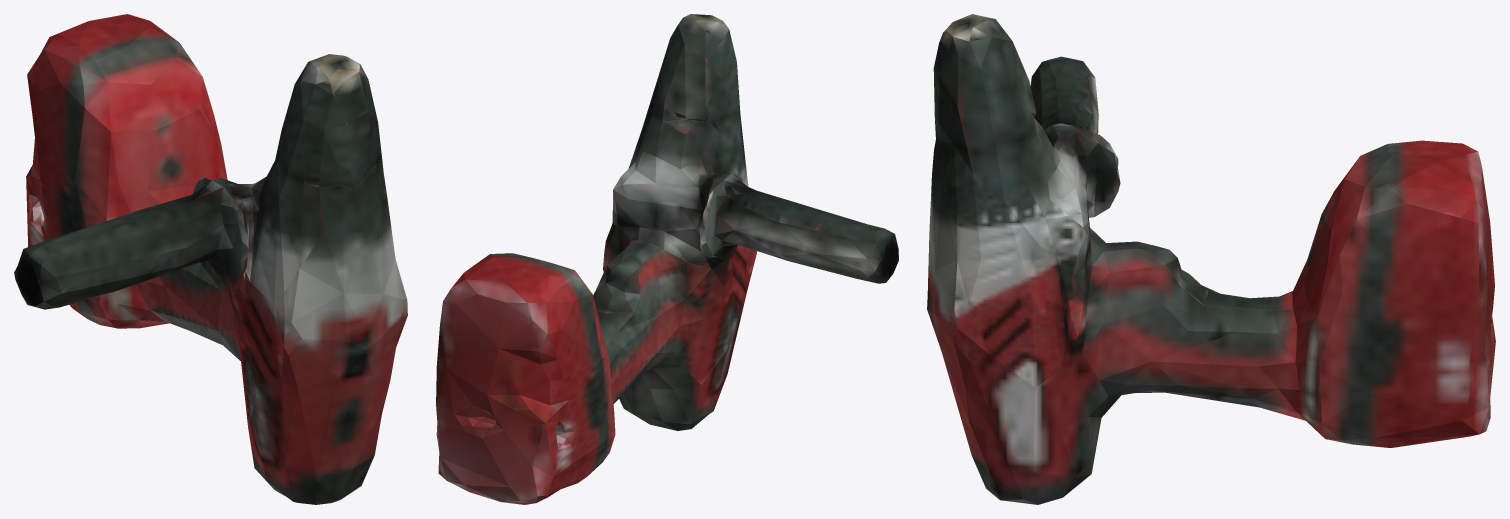
The model's file is cordless_drill.dae.
The picture shows the model from 3 angles, left to right: view 1: azimuth 30°, elevation 25°; view 2: azimuth 150°, elevation 25°; view 3: azimuth 270°, elevation 25°; orthographic projection. The views are drawn at different scales.
Parts seen in each view (by area): view 1: node; view 2: node; view 3: node.
Boxes of the visible parts, left/top/right/bottom form: node: left=14, top=14, right=407, bottom=504; node: left=436, top=14, right=898, bottom=504; node: left=927, top=14, right=1495, bottom=504.
Size of the model in its own units: 181 by 232 by 255.
